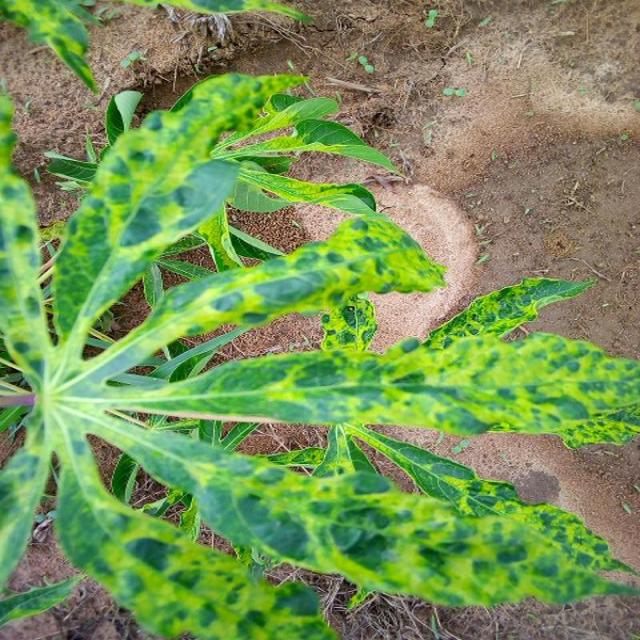cassava leaf: (0, 68, 638, 637)
